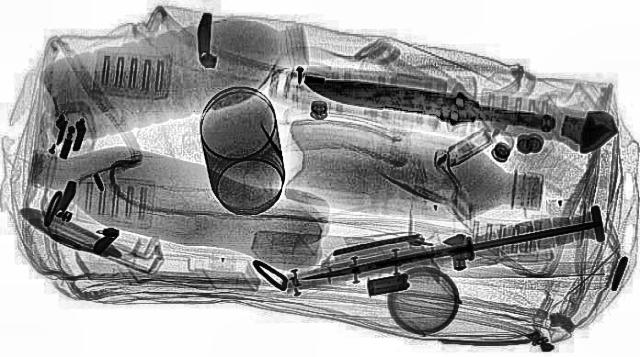Knife: (293, 208, 615, 296), (294, 68, 564, 138)
